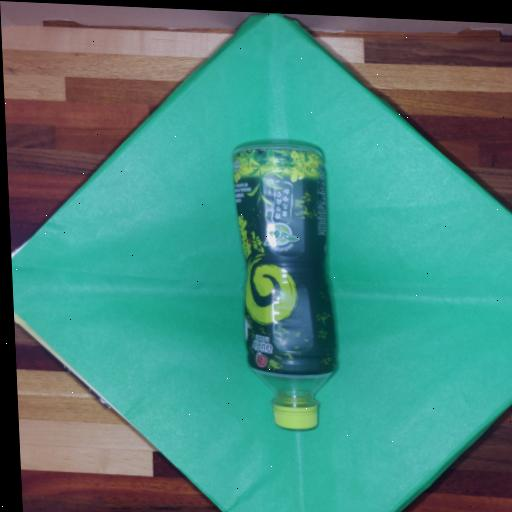bottle: (234, 145, 335, 429)
